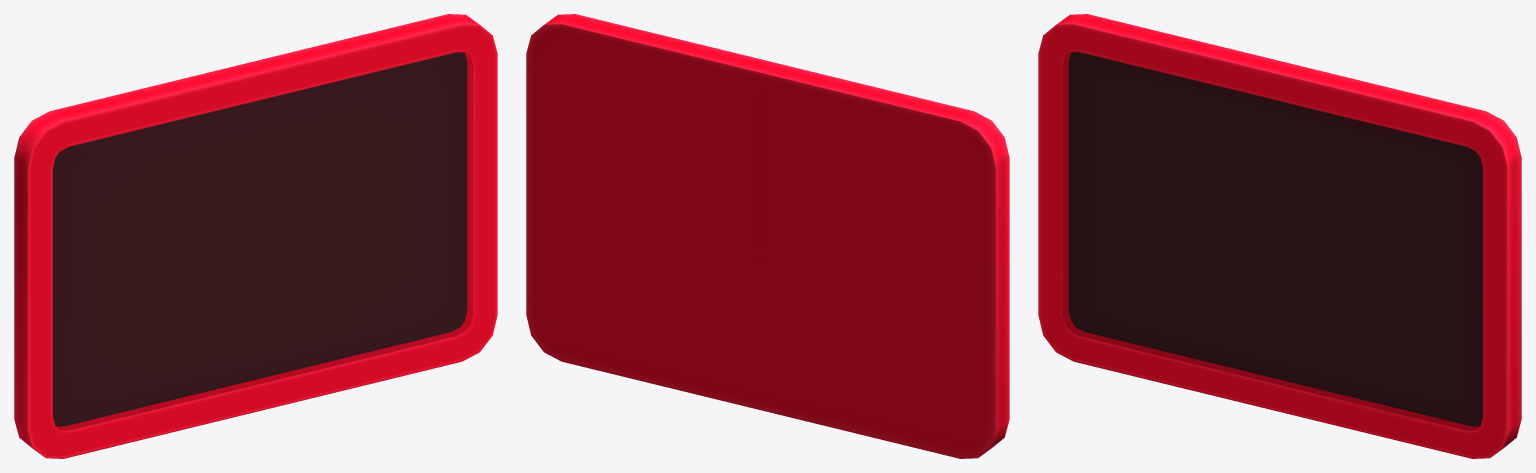
The model's file is workstation_display.glb.
3 renders of one model, left to right at view 1: azimuth 30°, elevation 25°; view 2: azimuth 150°, elevation 25°; view 3: azimuth 330°, elevation 25°, orthographic.
Parts seen in each view (by area): view 1: obj_queue; view 2: obj_queue; view 3: obj_queue.
Part boxes in pixels (x1,y1,x2,y2): obj_queue: (14, 14, 497, 458); obj_queue: (526, 14, 1009, 458); obj_queue: (1038, 14, 1521, 458).
Size of what is drawn, in the model's own units: 0.9554 by 0.6568 by 0.0489.
1 material, 1 textured.
